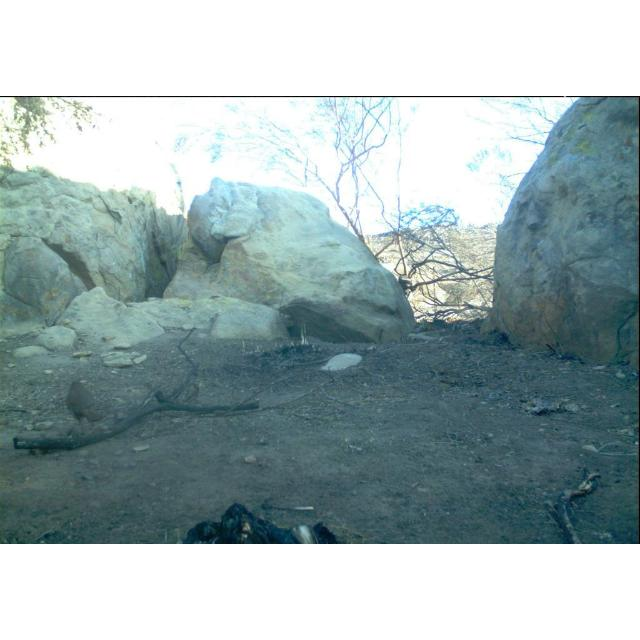animals: (64, 374, 108, 428)
